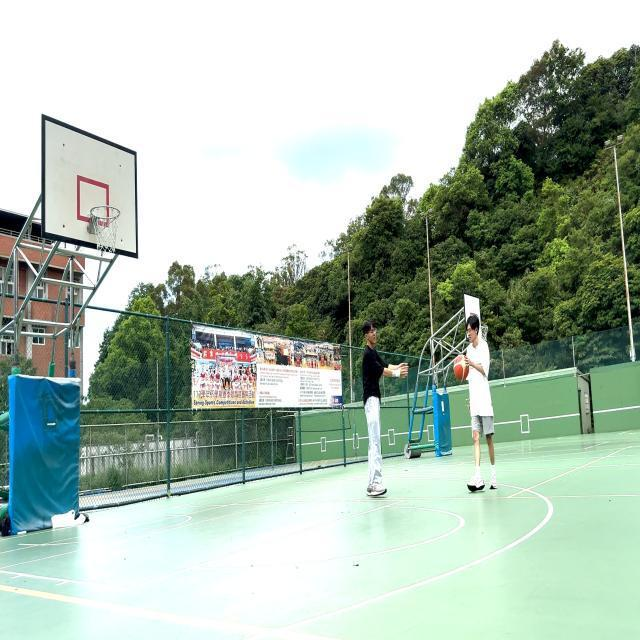ball: (454, 354, 469, 382)
